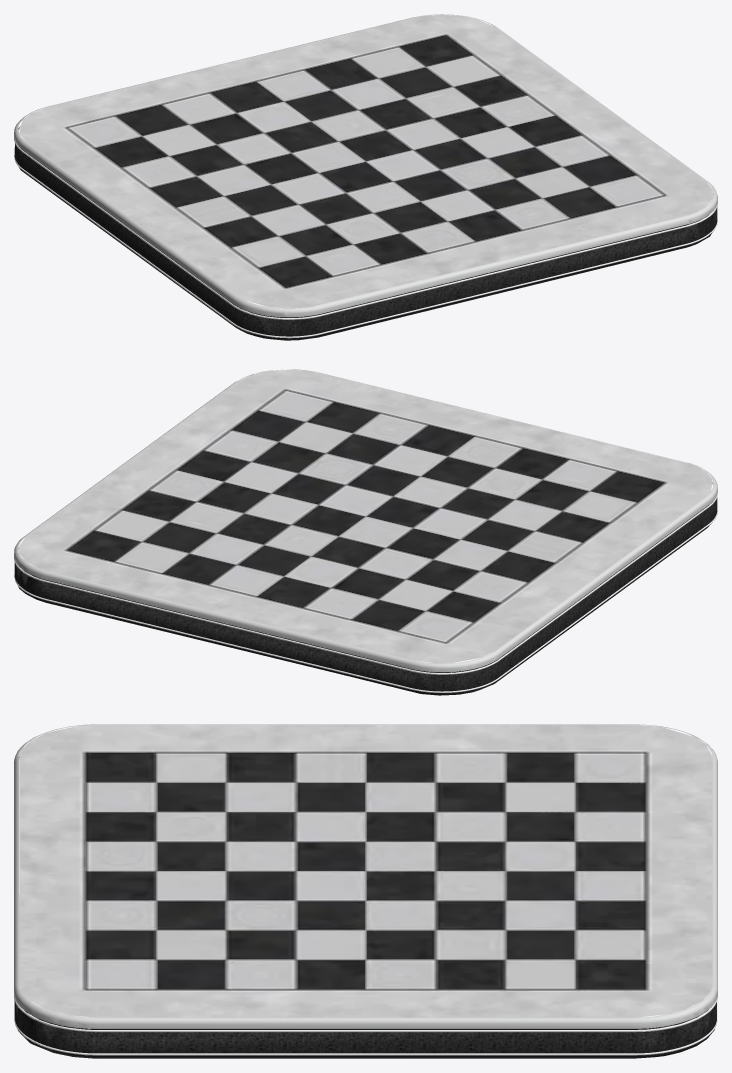
Rendered from argentum_chessboard.glb.
3 views of the same model, one above another, from view 1: azimuth 30°, elevation 25°; view 2: azimuth 150°, elevation 25°; view 3: azimuth 270°, elevation 25° (orthographic). The views are drawn at different scales.
Visible parts, largest first — view 1: Argentum_Noctis_Chessboard; view 2: Argentum_Noctis_Chessboard; view 3: Argentum_Noctis_Chessboard.
Part boxes in pixels (bbox=[...]): Argentum_Noctis_Chessboard: bbox=[14, 14, 717, 340]; Argentum_Noctis_Chessboard: bbox=[14, 369, 717, 695]; Argentum_Noctis_Chessboard: bbox=[14, 724, 717, 1058].
Size of the model in its own units: 0.504 by 0.032 by 0.504.
Materials: 7 (2 with a texture image).
